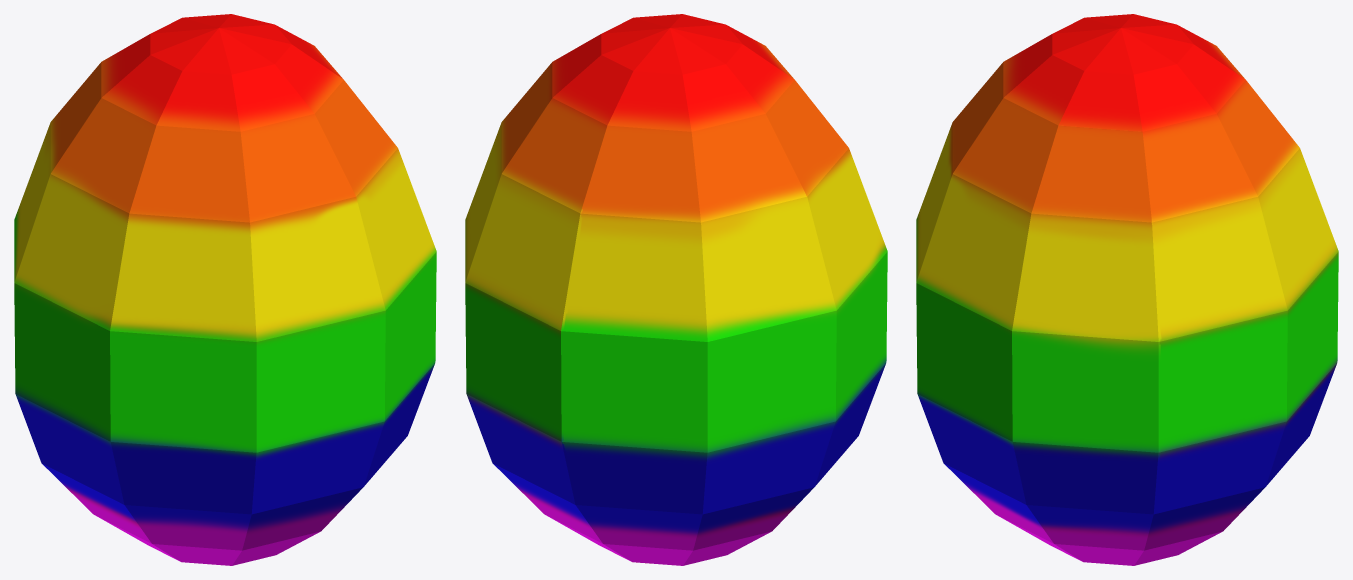
File: egg_rainbow.glb
3 views of the same model, side by side, from view 1: azimuth 30°, elevation 25°; view 2: azimuth 150°, elevation 25°; view 3: azimuth 270°, elevation 25° (orthographic).
Parts seen in each view (by area): view 1: Ei; view 2: Ei; view 3: Ei.
Boxes of the visible parts, box(x1,y1,x2,y2) form: Ei: box(14, 14, 436, 565); Ei: box(465, 14, 887, 565); Ei: box(916, 14, 1338, 565).
Size of the model in its own units: 0.3486 by 0.4649 by 0.3433.
1 material, 1 textured.
